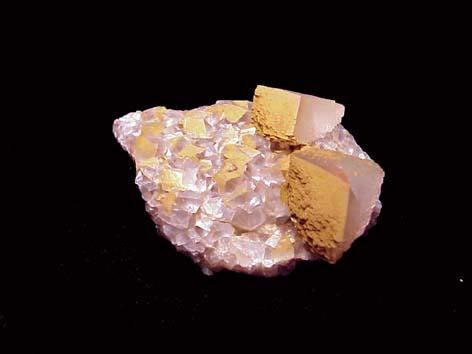calcite: (114, 100, 319, 276)
